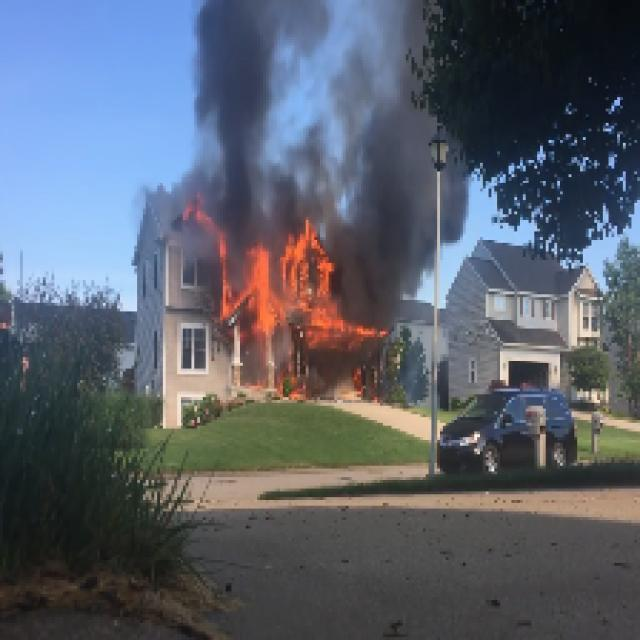Fire: (222, 232, 354, 334)
Smoke: (205, 3, 338, 220), (348, 2, 423, 308)
